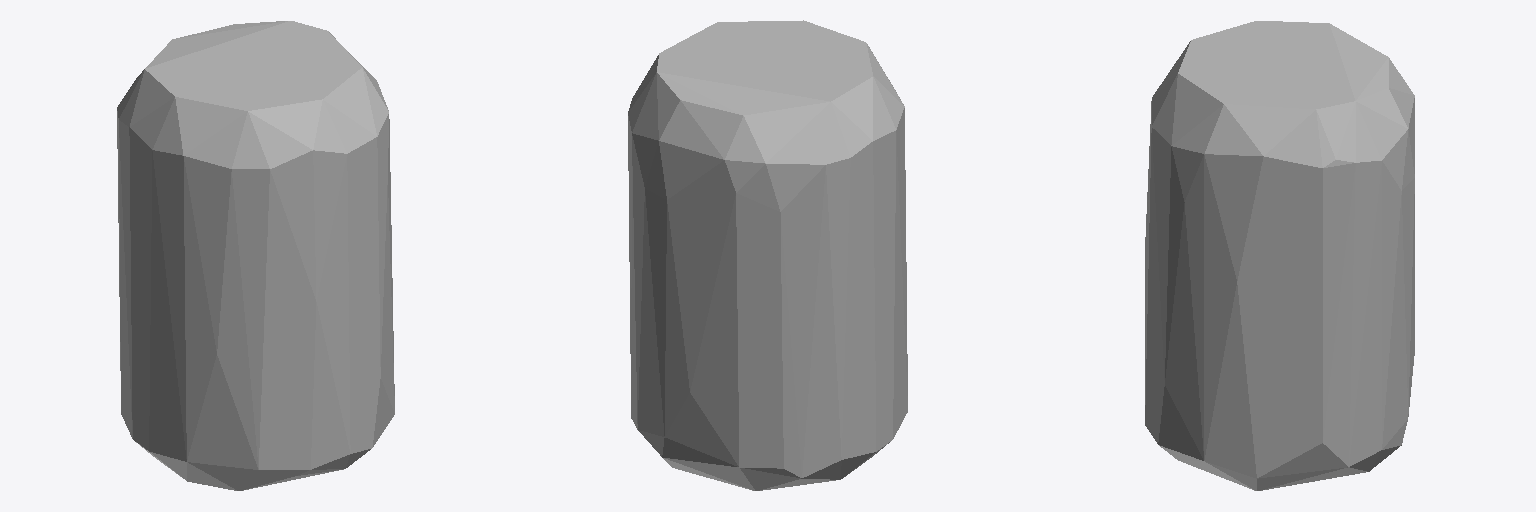
URDF robot description (root):
<robot name="root">
  <link name="link_d44cec47dbdead7ca46192d8b30882_convex_piece_0">
    <inertial>
      <origin rpy="0 0 0" xyz="0 0 0"/>
      <mass value="9.65E-05"/>
      <inertia ixx="5.01E-08" ixy="4.80E-11" ixz="-1.26E-11" iyy="5.00E-08" iyz="5.18E-10" izz="2.46E-08"/>
    </inertial>
    <visual>
      <origin rpy="0 0 0" xyz="0 0 0"/>
      <geometry>
        <mesh filename="d44cec47dbdead7ca46192d8b30882_convex_piece_0.obj" scale="1.0000E+00"/>
      </geometry>
      <material name="">
        <color rgba="7.50E-01 7.50E-01 7.50E-01 1"/>
      </material>
    </visual>
    <collision>
      <origin rpy="0 0 0" xyz="0 0 0"/>
      <geometry>
        <mesh filename="d44cec47dbdead7ca46192d8b30882_convex_piece_0.obj" scale="1.0000E+00"/>
      </geometry>
    </collision>
  </link>
</robot>

--- What the picture shows (computed from the rendered views, not written in the file) ---
The picture shows the robot from 3 angles, left to right: view 1: azimuth 30°, elevation 25°; view 2: azimuth 150°, elevation 25°; view 3: azimuth 270°, elevation 25°; orthographic projection.
Model root with 1 links and 0 joints (none), rooted at link_d44cec47dbdead7ca46192d8b30882_convex_piece_0, posed all joints at 0.
Links seen in each view (by area): view 1: link_d44cec47dbdead7ca46192d8b30882_convex_piece_0; view 2: link_d44cec47dbdead7ca46192d8b30882_convex_piece_0; view 3: link_d44cec47dbdead7ca46192d8b30882_convex_piece_0.
Boxes of the visible links, x1,y1,x2,y2 form: link_d44cec47dbdead7ca46192d8b30882_convex_piece_0: (117,21,394,490); link_d44cec47dbdead7ca46192d8b30882_convex_piece_0: (628,20,907,490); link_d44cec47dbdead7ca46192d8b30882_convex_piece_0: (1145,21,1414,490).
Bounding box of the posed robot: 0.0447 × 0.0458 × 0.0715 m (x, y, z).
Meshes: 1 distinct files referenced, 1 mesh visuals loaded (1 OBJ).
